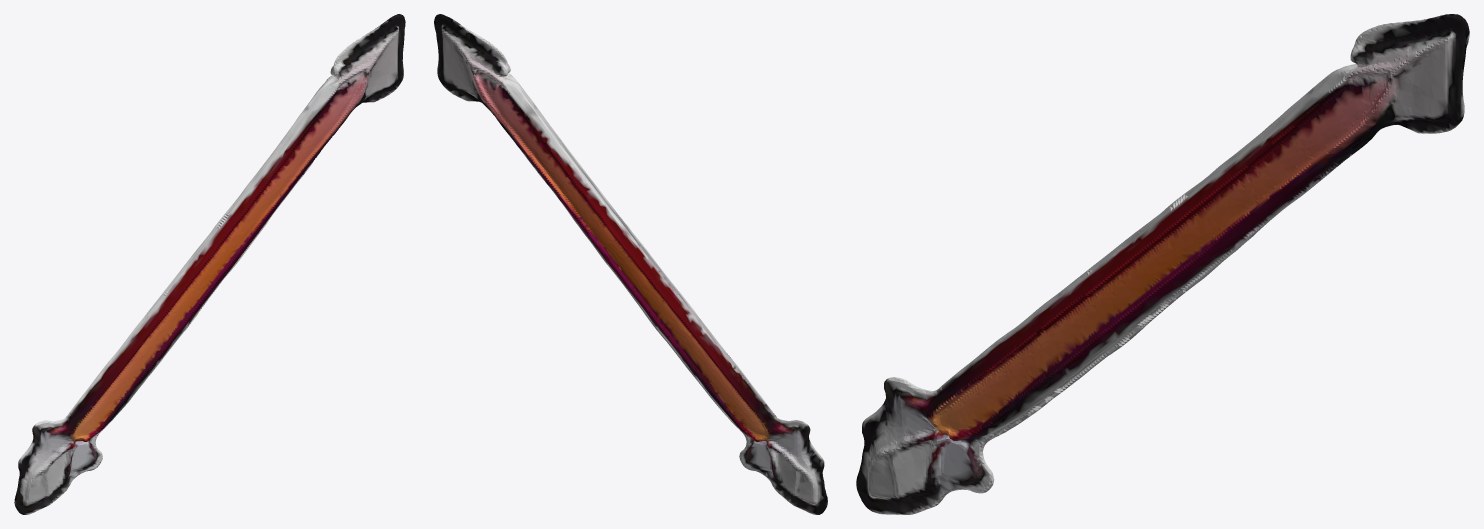
The model's file is twinblade_spear.glb.
3 views of the same model, side by side, from view 1: azimuth 30°, elevation 25°; view 2: azimuth 150°, elevation 25°; view 3: azimuth 330°, elevation 25° (orthographic). The views are drawn at different scales.
Parts seen in each view (by area): view 1: geometry_0; view 2: geometry_0; view 3: geometry_0.
Part boxes in pixels (x1,y1,x2,y2): geometry_0: (14, 14, 405, 514); geometry_0: (434, 14, 827, 514); geometry_0: (856, 14, 1469, 514).
Bounding box in the file's own units: 0.875 × 0.8734 × 0.0482.
